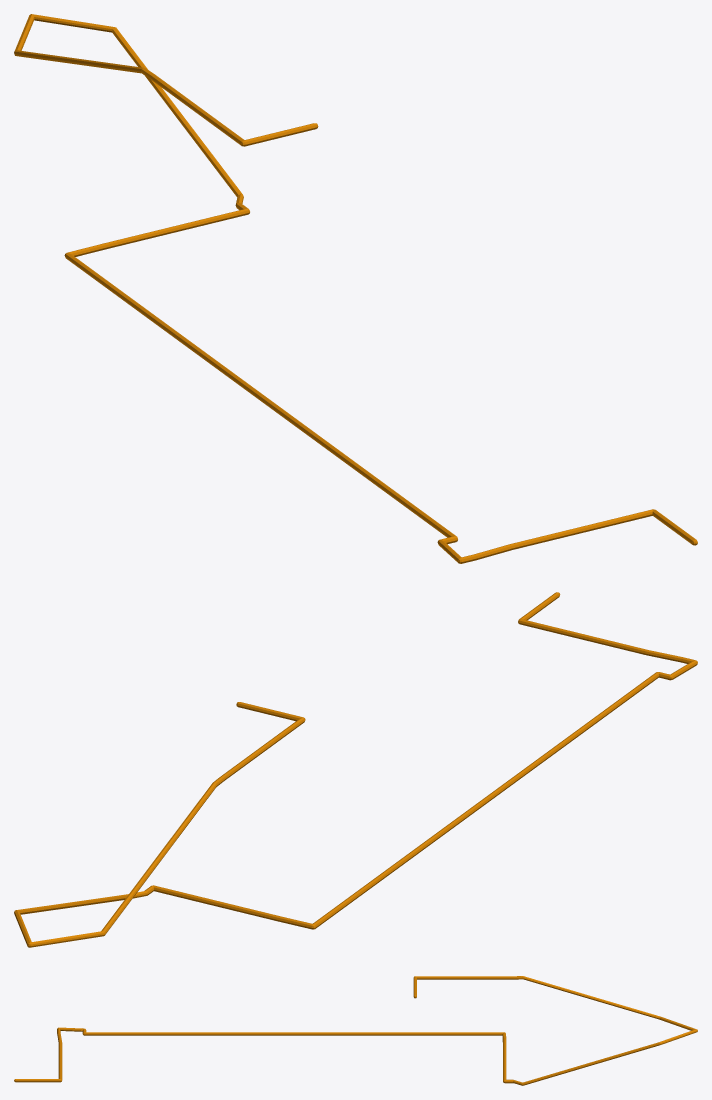
The picture shows the model from 3 angles, top to bottom: view 1: azimuth 30°, elevation 25°; view 2: azimuth 150°, elevation 25°; view 3: azimuth 270°, elevation 25°; orthographic projection. The views are drawn at different scales.
Size of the model in its own units: 749 by 520 by 3829.
